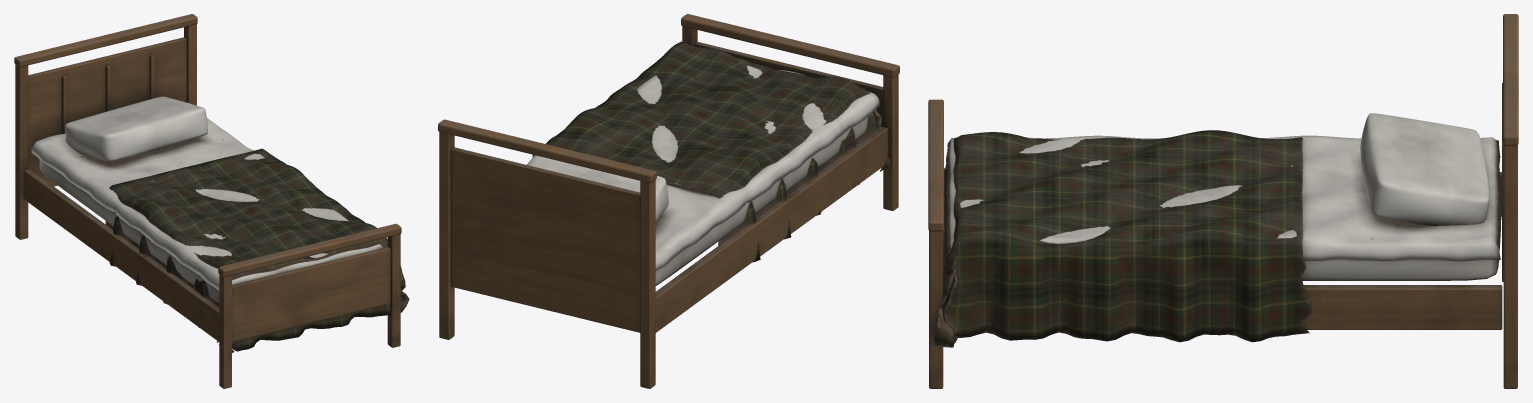
The model's file is Bed.fbx.
3 views of the same model, side by side, from view 1: azimuth 30°, elevation 25°; view 2: azimuth 150°, elevation 25°; view 3: azimuth 270°, elevation 25° (orthographic). The views are drawn at different scales.
Parts seen in each view (by area): view 1: Bed_Mesh; view 2: Bed_Mesh; view 3: Bed_Mesh.
Part boxes in pixels (x1,y1,x2,y2): Bed_Mesh: (14, 14, 409, 388); Bed_Mesh: (438, 14, 899, 388); Bed_Mesh: (928, 14, 1518, 388).
Size of the model in its own units: 1.09 by 0.98 by 2.07.
